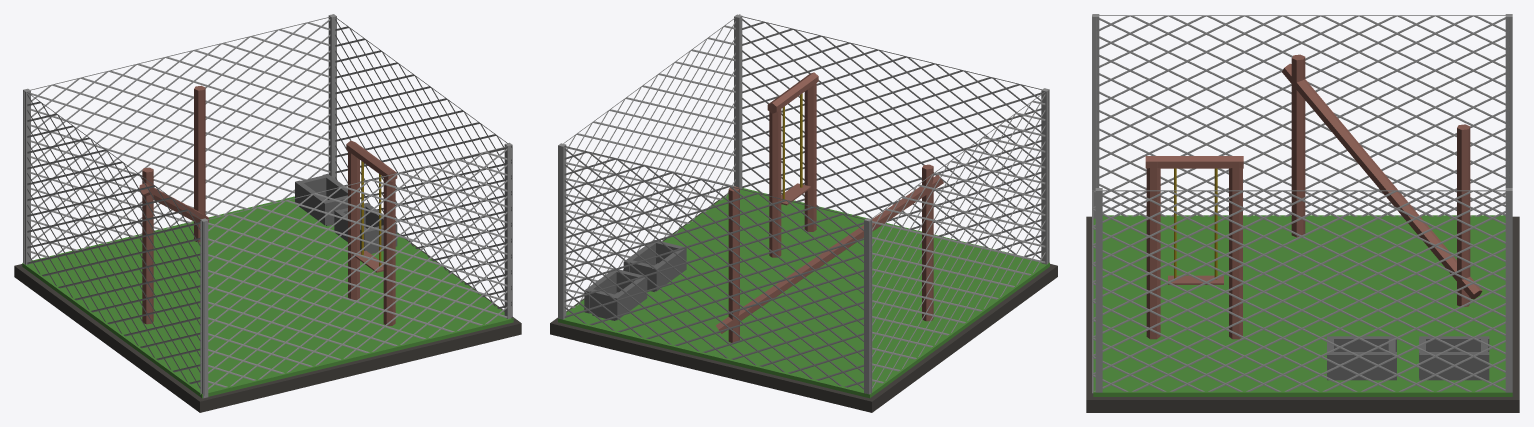
The model's file is MonkeyEnclosure.fbx.
3 views of the same model, side by side, from view 1: azimuth 30°, elevation 25°; view 2: azimuth 150°, elevation 25°; view 3: azimuth 270°, elevation 25° (orthographic). The views are drawn at different scales.
Visible parts, largest first — view 1: Cube, Plane.001, Plane, Plane.003, Plane.002, Cube.007, Cylinder.005, Cube.010, Cube.004, Cylinder, Cylinder.001, Cube.001 (+4 smaller); view 2: Cube, Plane, Plane.001, Plane.003, Plane.002, Cube.007, Cylinder.005, Cube.010, Cylinder, Cube.006, Cylinder.001, Cube.002 (+4 smaller); view 3: Cube, Plane.002, Plane.003, Cube.007, Cylinder.005, Cube.010, Cube.006, Cylinder, Cylinder.001, Cube.003, Cube.001, Cube.004 (+3 smaller).
Boxes of the visible parts, bbox=[...] form: Cube: bbox=[22, 196, 513, 398]; Plane.001: bbox=[200, 146, 507, 394]; Plane: bbox=[23, 17, 330, 263]; Plane.003: bbox=[27, 92, 204, 395]; Plane.002: bbox=[335, 17, 512, 320]; Cube.007: bbox=[14, 232, 521, 412]; Cylinder.005: bbox=[139, 85, 209, 324]; Cube.010: bbox=[295, 173, 347, 225]; Cube.004: bbox=[200, 218, 208, 398]; Cylinder: bbox=[383, 177, 395, 325]; Cylinder.001: bbox=[348, 151, 359, 299]; Cube.001: bbox=[328, 14, 336, 179]; Cube: bbox=[558, 188, 1049, 398]; Plane: bbox=[564, 146, 871, 394]; Plane.001: bbox=[742, 16, 1048, 263]; Plane.003: bbox=[871, 92, 1045, 388]; Plane.002: bbox=[563, 14, 740, 309]; Cube.007: bbox=[550, 193, 1057, 412]; Cylinder.005: bbox=[716, 164, 943, 342]; Cube.010: bbox=[584, 268, 647, 320]; Cylinder: bbox=[804, 83, 816, 231]; Cube.006: bbox=[623, 239, 686, 292]; Cylinder.001: bbox=[769, 109, 781, 257]; Cube.002: bbox=[864, 218, 872, 394]; Cube: bbox=[1093, 215, 1512, 396]; Plane.002: bbox=[1092, 190, 1505, 393]; Plane.003: bbox=[1092, 15, 1505, 216]; Cube.007: bbox=[1086, 216, 1519, 412]; Cylinder.005: bbox=[1282, 54, 1482, 306]; Cube.010: bbox=[1419, 336, 1489, 380]; Cube.006: bbox=[1327, 336, 1396, 380]; Cylinder: bbox=[1146, 162, 1160, 339]; Cylinder.001: bbox=[1229, 162, 1242, 339]; Cube.003: bbox=[1095, 188, 1102, 392]; Cube.001: bbox=[1505, 188, 1512, 392]; Cube.004: bbox=[1092, 14, 1099, 218].
Size of the model in its own units: 3097 by 1728 by 3097.
